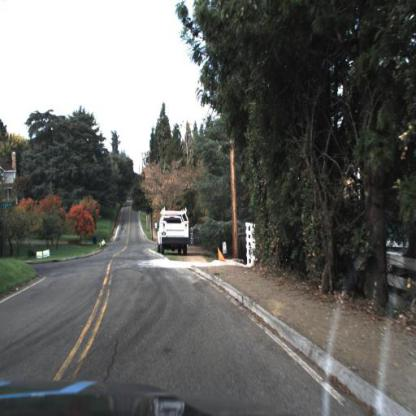car: (154, 204, 192, 257), (156, 206, 192, 254)
